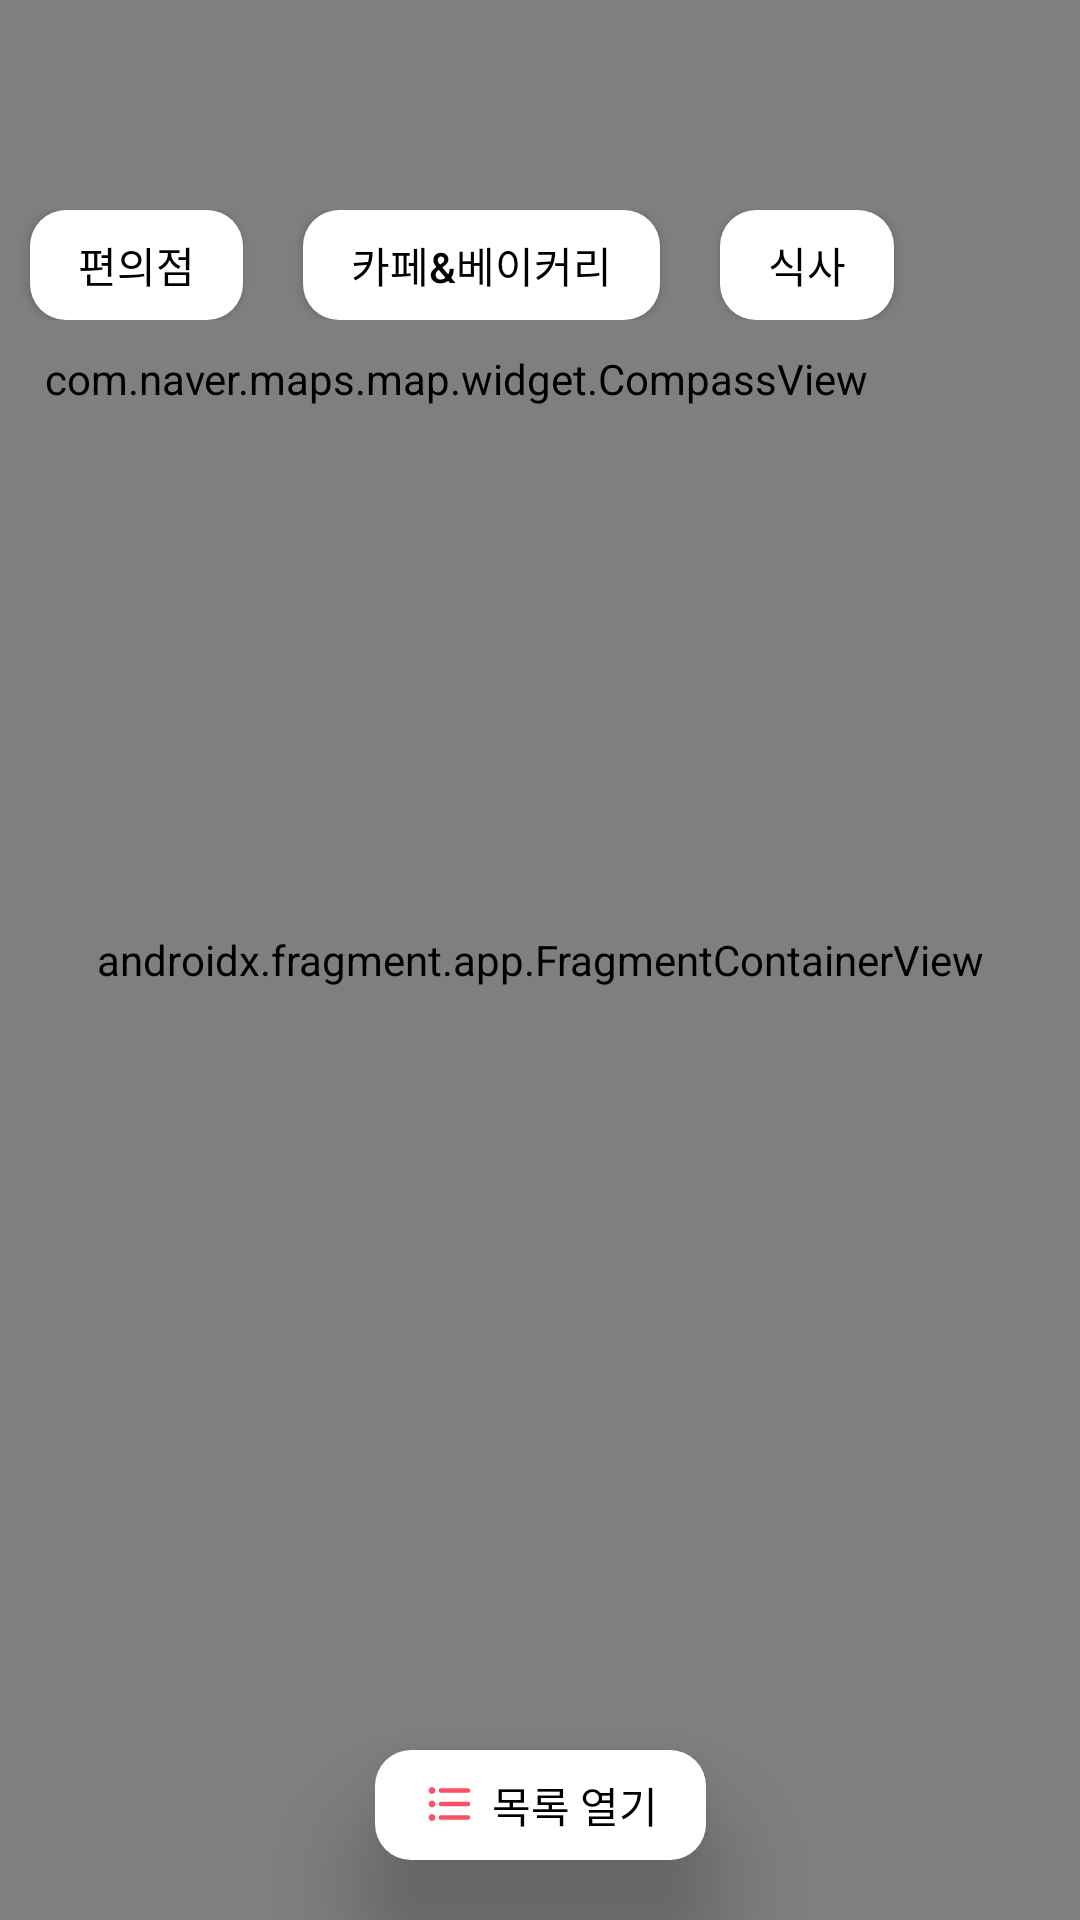

Screen size 1080 × 1920. Icon name, then its box in pixels as [left=x1, top=y1, right=x2, bottom=y2]:
format list bulleted: [left=428, top=1787, right=471, bottom=1821]
